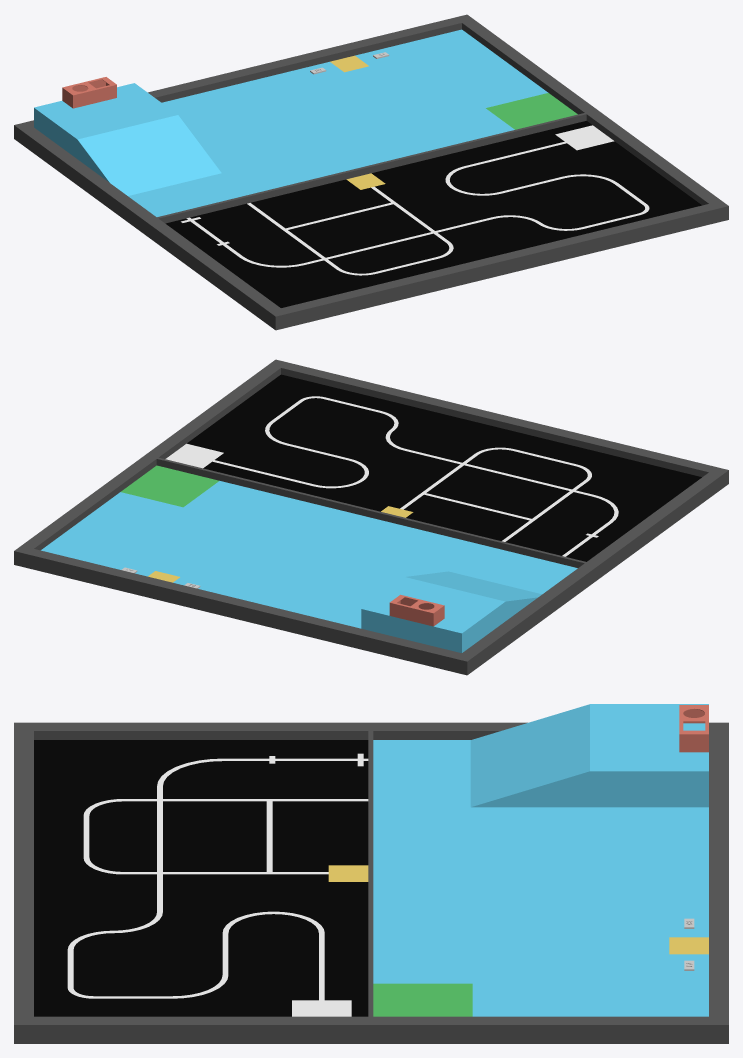
Rendered from vrc_demo.dae.
The picture shows the model from 3 angles, top to bottom: view 1: azimuth 30°, elevation 25°; view 2: azimuth 150°, elevation 25°; view 3: azimuth 270°, elevation 25°; orthographic projection. The views are drawn at different scales.
Visible parts, largest first — view 1: mr_area.001, line_base.001, base_link.001, line_track.001, mr_start.001, drop_box.001; view 2: line_base.001, mr_area.001, base_link.001, line_track.001, mr_start.001, drop_box.001; view 3: mr_area.001, line_base.001, base_link.001, line_track.001, mr_start.001, drop_box.001, plane_surface.001, auto_plane_surface.001.
Boxes of the visible parts, x1,y1,x2,y2 form: mr_area.001: (34, 29, 548, 216); line_base.001: (165, 121, 701, 307); base_link.001: (14, 14, 728, 330); line_track.001: (181, 125, 649, 275); mr_start.001: (486, 93, 577, 129); drop_box.001: (62, 77, 116, 108); line_base.001: (187, 374, 701, 561); mr_area.001: (41, 481, 577, 652); base_link.001: (14, 359, 728, 675); line_track.001: (165, 396, 618, 556); mr_start.001: (121, 465, 219, 507); drop_box.001: (389, 594, 444, 626); mr_area.001: (373, 704, 708, 1016); line_base.001: (34, 740, 368, 1016); base_link.001: (14, 722, 728, 1043); line_track.001: (67, 753, 368, 1016); mr_start.001: (373, 983, 472, 1016); drop_box.001: (679, 705, 708, 752); plane_surface.001: (669, 937, 708, 954); auto_plane_surface.001: (328, 865, 368, 881).
Size of the model in its own units: 3.6 by 3.6 by 0.355.
